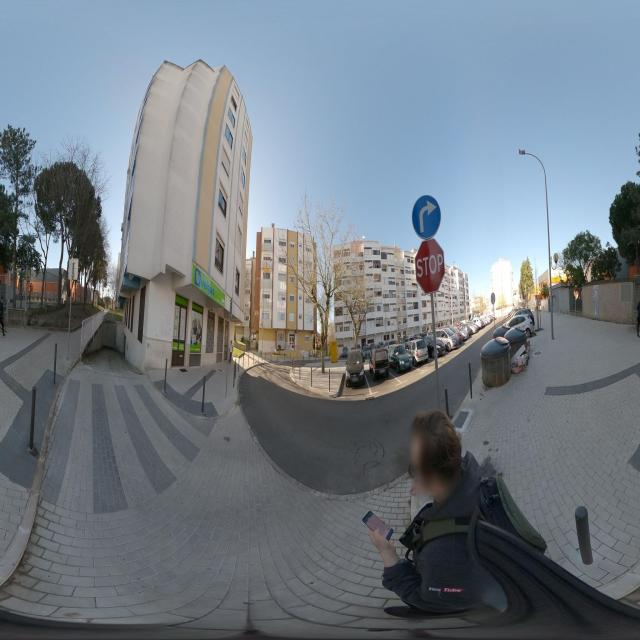car: (346, 348, 366, 386), (507, 311, 535, 337), (392, 344, 414, 374), (409, 338, 429, 366), (448, 327, 460, 349), (462, 321, 473, 339), (472, 316, 481, 332)
